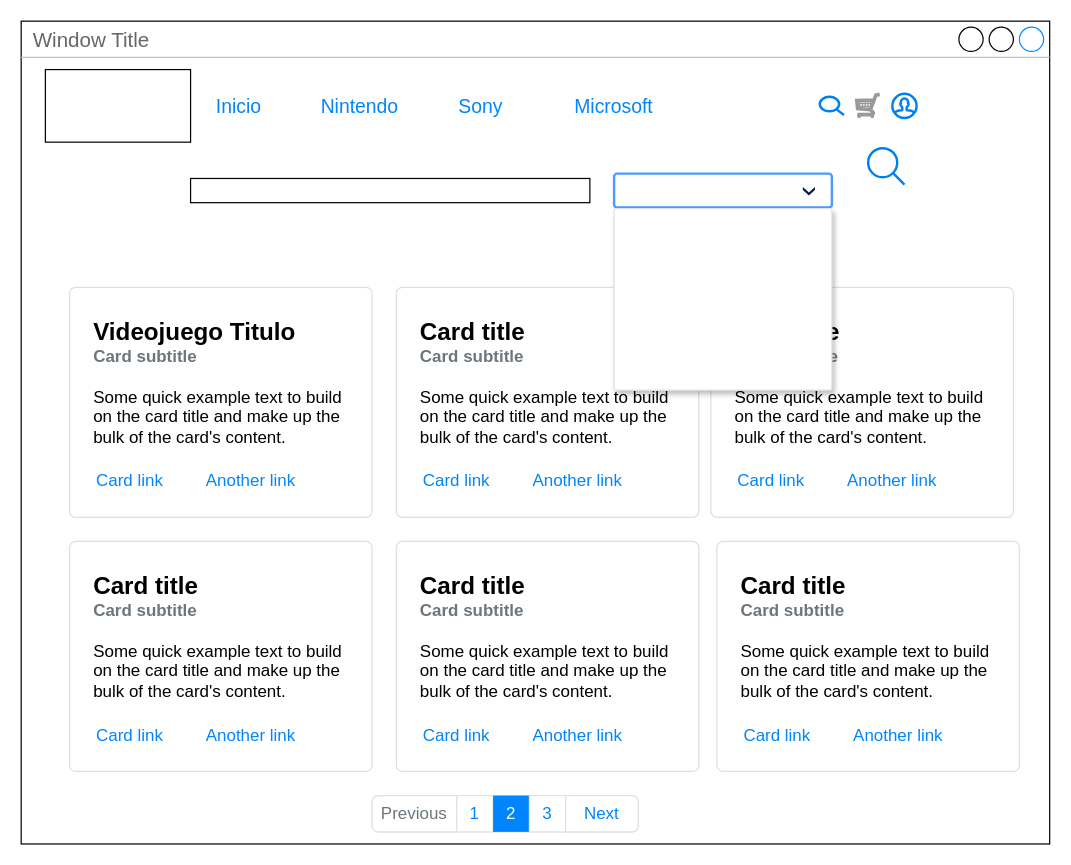
The diagram is 1071 pixels wide and 865 high, and some of its shapes have lost their labels. Here are the shapes that lost their labels. From the top down, the centre of each, then its label:
At point 117,105: "Logo".
At point 389,190: "Placeholder".
At point 722,190: "Consola".
At point 723,301: "Consola PS5 Xbox series x Nintendo Switch".
